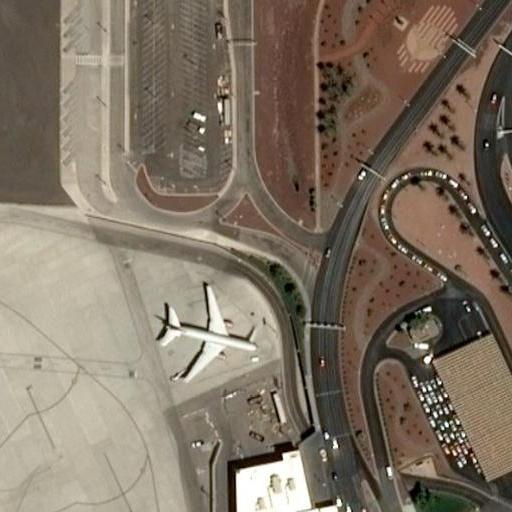Aircraft: (155, 279, 257, 381)
